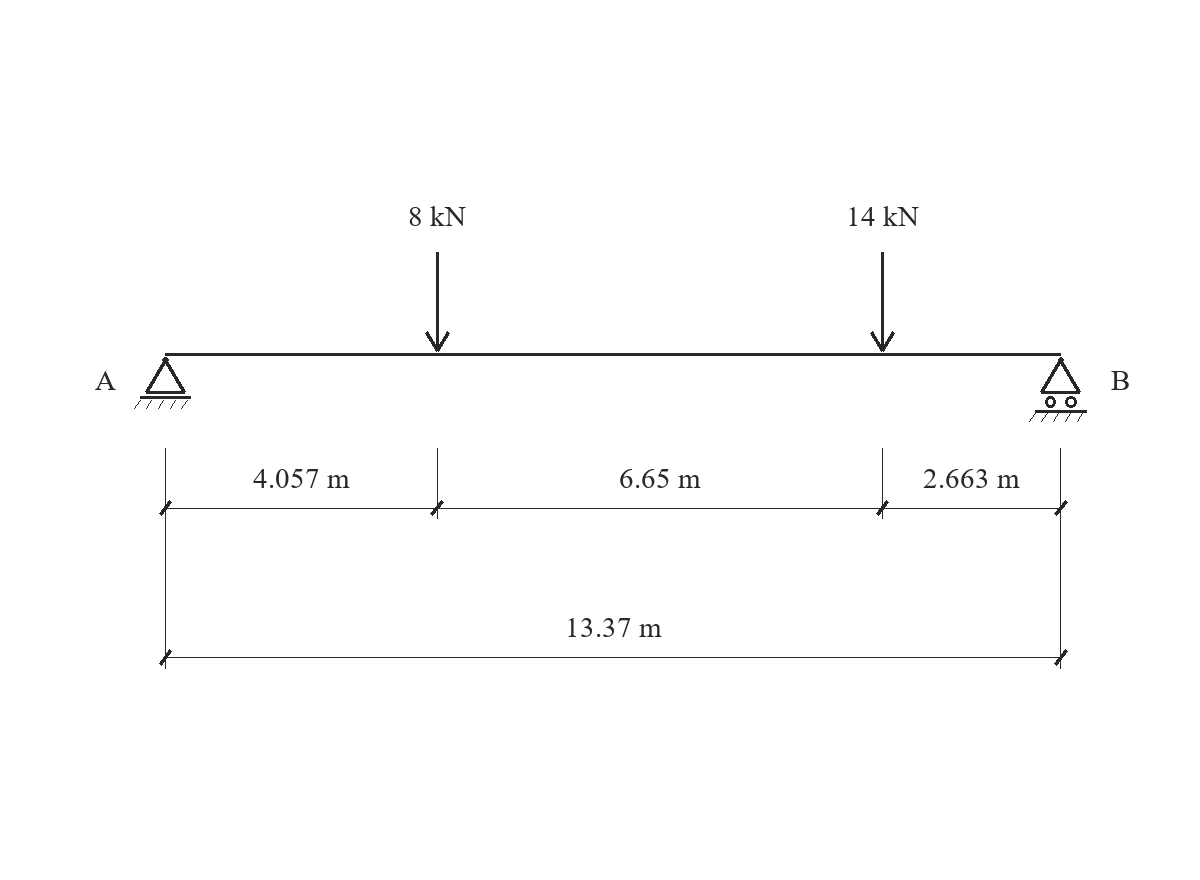pin_support: (134, 357, 191, 409)
point_load: (425, 252, 450, 352), (870, 252, 895, 352)
roller_support: (1029, 357, 1087, 422)
